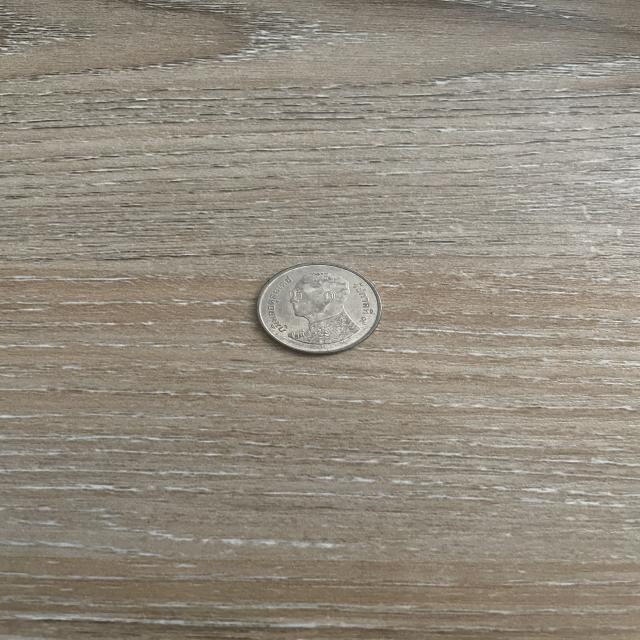1 Bath: (251, 257, 390, 361)
